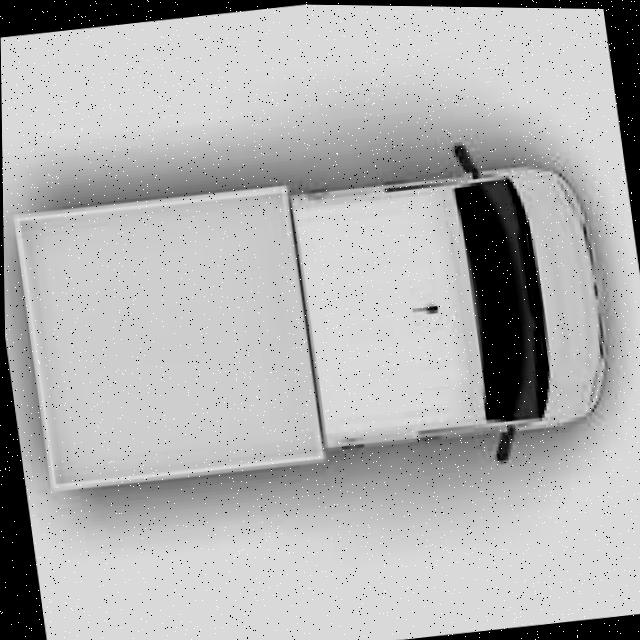truck: (7, 141, 614, 497)
